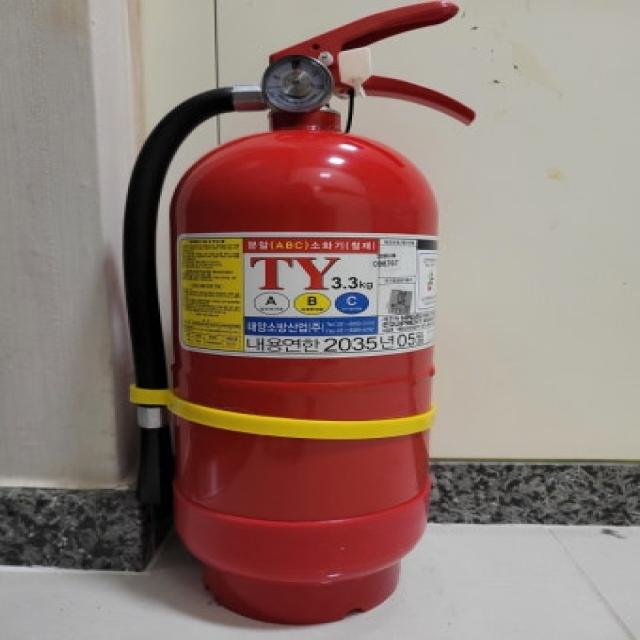pressure gauge: (262, 56, 333, 113)
